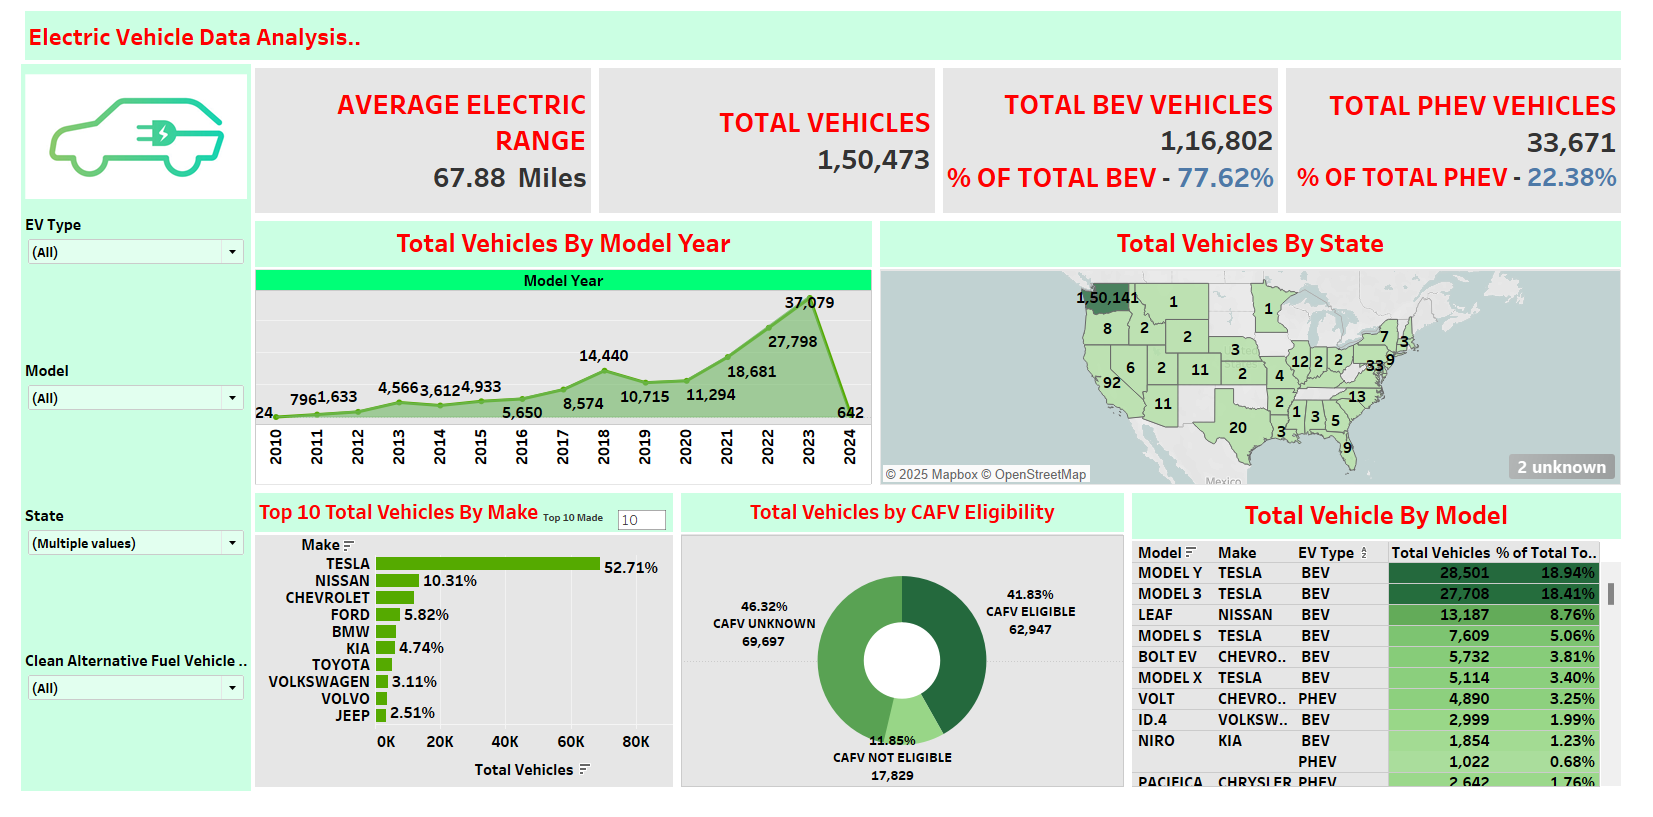

What the dashboard file says about the page in this screenshot:
{"tool":"tableau","page":{"name":"Dashboard 1","canvas":[1620,800],"ordinal":0},"visuals":[{"type":"title","box":[8,8,1604,57]},{"type":"image","param":"C:/Users/sumit/Downloads/240_F_524935557_JjYRXDktED3P5YlSnkAqikICzypWonqY.jpg","box":[8,65,230,146]},{"type":"worksheet","title":"Average Electric Range","mark":"Automatic","box":[238,65,344,153]},{"type":"worksheet","title":"Total Number Of Vehicles","mark":"Automatic","box":[582,65,344,153]},{"type":"worksheet","title":"Total BEV Vehicles","mark":"Automatic","box":[926,65,343,153]},{"type":"worksheet","title":"Total PHEV Vehicles","mark":"Automatic","box":[1269,65,343,153]},{"type":"filter","title":"Top 10 Total Vehicles By Make","param":"[federated.0gepesm12r6ys20zupn201gapvki].[none:Electric Vehicle Type:nk]","box":[8,211,230,146]},{"type":"worksheet","title":"Total Vehicles By Model Year","mark":"Line","rows":["Calculation_1525312902934499328","Calculation_1525312902934499328"],"cols":["Model Year"],"box":[238,218,625,272]},{"type":"worksheet","title":"Total Vehicles By State","mark":"Automatic","box":[863,218,749,272]},{"type":"filter","title":"Top 10 Total Vehicles By Make","param":"[federated.0gepesm12r6ys20zupn201gapvki].[none:Model:nk]","box":[8,357,230,145]},{"type":"worksheet","title":"Top 10 Total Vehicles By Make","mark":"Automatic","rows":["Make"],"cols":["Calculation_1525312902934499328"],"box":[238,490,426,302]},{"type":"worksheet","title":"Total Vehicles by CAFV Eligibility","mark":"Pie","rows":["Calculation_1482810181844828161","Calculation_1482810181844828161"],"box":[664,490,451,302]},{"type":"worksheet","title":"Total Vehicle By Model","mark":"Square","rows":["Model","Make","Electric Vehicle Type"],"box":[1115,490,497,302]},{"type":"filter","title":"Top 10 Total Vehicles By Make","param":"[federated.0gepesm12r6ys20zupn201gapvki].[none:State:nk]","box":[8,502,230,145]},{"type":"parameter","param":"[Parameters].[Parameter 1]","box":[530,508,126,40]},{"type":"filter","title":"Total Vehicles by CAFV Eligibility","param":"[federated.0gepesm12r6ys20zupn201gapvki].[none:Clean Alternative Fuel Vehicle (C","box":[8,647,230,145]}]}

Visuals, with their boxes in screenshot pixels (x1, y1, x2, y2), scaled from the page's 1620x800 canvas onto the 1653x817 screenshot:
title: {"x1": 8, "y1": 8, "x2": 1645, "y2": 66}
image: {"x1": 8, "y1": 66, "x2": 243, "y2": 215}
"Average Electric Range" worksheet: {"x1": 243, "y1": 66, "x2": 594, "y2": 223}
"Total Number Of Vehicles" worksheet: {"x1": 594, "y1": 66, "x2": 945, "y2": 223}
"Total BEV Vehicles" worksheet: {"x1": 945, "y1": 66, "x2": 1295, "y2": 223}
"Total PHEV Vehicles" worksheet: {"x1": 1295, "y1": 66, "x2": 1645, "y2": 223}
"Top 10 Total Vehicles By Make" filter: {"x1": 8, "y1": 215, "x2": 243, "y2": 365}
"Total Vehicles By Model Year" worksheet (Line marks): {"x1": 243, "y1": 223, "x2": 881, "y2": 500}
"Total Vehicles By State" worksheet: {"x1": 881, "y1": 223, "x2": 1645, "y2": 500}
"Top 10 Total Vehicles By Make" filter: {"x1": 8, "y1": 365, "x2": 243, "y2": 513}
"Top 10 Total Vehicles By Make" worksheet: {"x1": 243, "y1": 500, "x2": 678, "y2": 809}
"Total Vehicles by CAFV Eligibility" worksheet (Pie marks): {"x1": 678, "y1": 500, "x2": 1138, "y2": 809}
"Total Vehicle By Model" worksheet (Square marks): {"x1": 1138, "y1": 500, "x2": 1645, "y2": 809}
"Top 10 Total Vehicles By Make" filter: {"x1": 8, "y1": 513, "x2": 243, "y2": 661}
parameter: {"x1": 541, "y1": 519, "x2": 669, "y2": 560}
"Total Vehicles by CAFV Eligibility" filter: {"x1": 8, "y1": 661, "x2": 243, "y2": 809}
